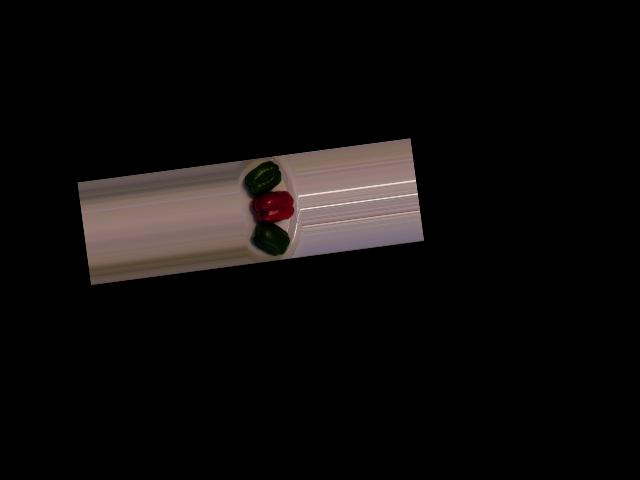bell_pepper: (247, 218, 296, 260)
